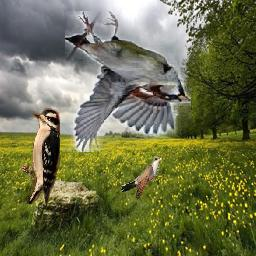Cuckoo: (122, 156, 163, 200)
Sparrow: (65, 12, 191, 153)
Woodpecker: (20, 106, 60, 204)
